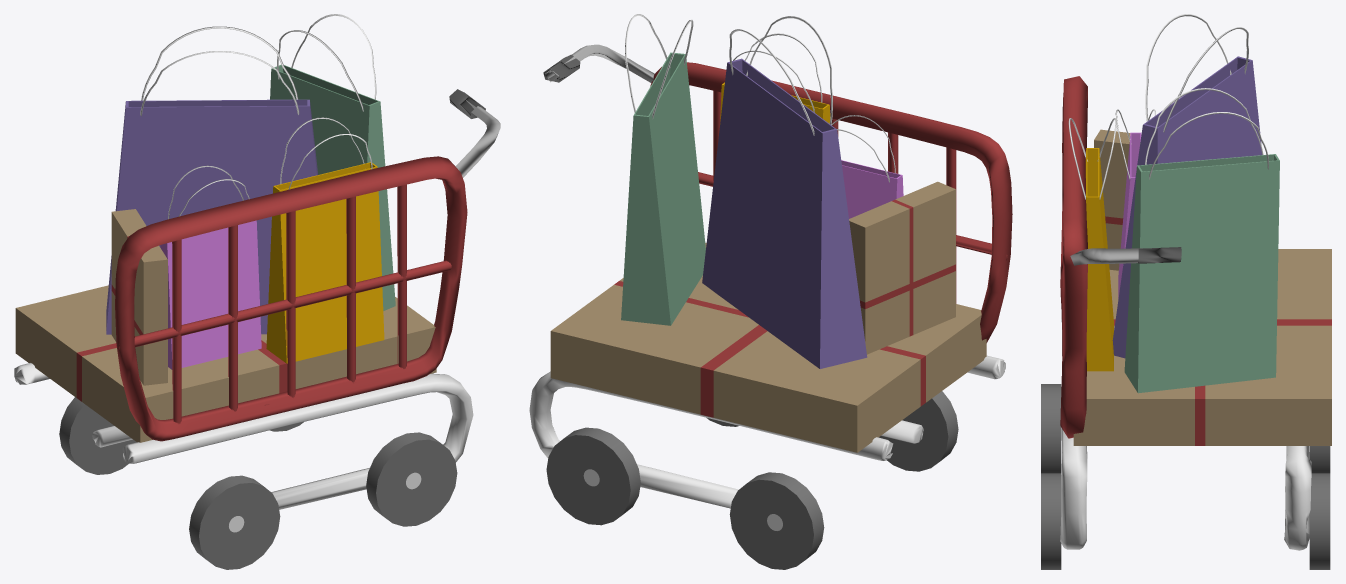
File: Shoping bags.fbx
The picture shows the model from 3 angles, left to right: view 1: azimuth 30°, elevation 25°; view 2: azimuth 150°, elevation 25°; view 3: azimuth 270°, elevation 25°; orthographic projection. The views are drawn at different scales.
Parts seen in each view (by area): view 1: polySurface247, polySurface215, polySurface225, polySurface219, polySurface253, polySurface218, polySurface222, polySurface210, polySurface209, polySurface208, polySurface211, polySurface214; view 2: polySurface225, polySurface215, polySurface222, polySurface208, polySurface247, polySurface211, polySurface212, polySurface253, polySurface209, polySurface218; view 3: polySurface222, polySurface225, polySurface247, polySurface215, polySurface253, polySurface219, polySurface208, polySurface212, polySurface210, polySurface209, polySurface218, polySurface211 (+4 smaller).
Boxes of the visible parts, x1,y1,x2,y2 form: polySurface247: (115,89,500,441); polySurface215: (106,99,318,334); polySurface225: (15,285,436,442); polySurface219: (266,162,384,363); polySurface253: (14,363,473,509); polySurface218: (160,220,261,369); polySurface222: (270,65,395,310); polySurface210: (366,432,457,526); polySurface209: (189,475,280,569); polySurface208: (111,209,167,385); polySurface211: (59,397,136,474); polySurface214: (141,26,298,100); polySurface225: (550,243,986,452); polySurface215: (702,58,867,368); polySurface222: (621,52,705,325); polySurface208: (849,181,955,354); polySurface247: (543,44,1012,342); polySurface211: (729,472,824,569); polySurface212: (546,427,640,525); polySurface253: (529,355,1005,508); polySurface209: (879,391,958,471); polySurface218: (841,160,903,218); polySurface222: (1124,154,1279,393); polySurface225: (1073,249,1331,445); polySurface247: (1060,76,1181,438); polySurface215: (1112,56,1262,358); polySurface253: (1060,319,1311,550); polySurface219: (1085,148,1113,371); polySurface208: (1094,129,1130,270); polySurface212: (1309,473,1330,569); polySurface210: (1041,473,1061,569); polySurface209: (1041,384,1061,473); polySurface218: (1118,132,1141,298); polySurface211: (1309,446,1330,473).
Bounding box in the file's own units: 2.52 × 2.79 × 1.54.
